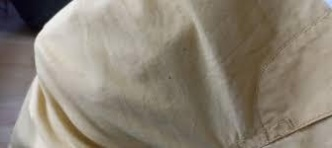oil: (105, 67, 160, 90)
